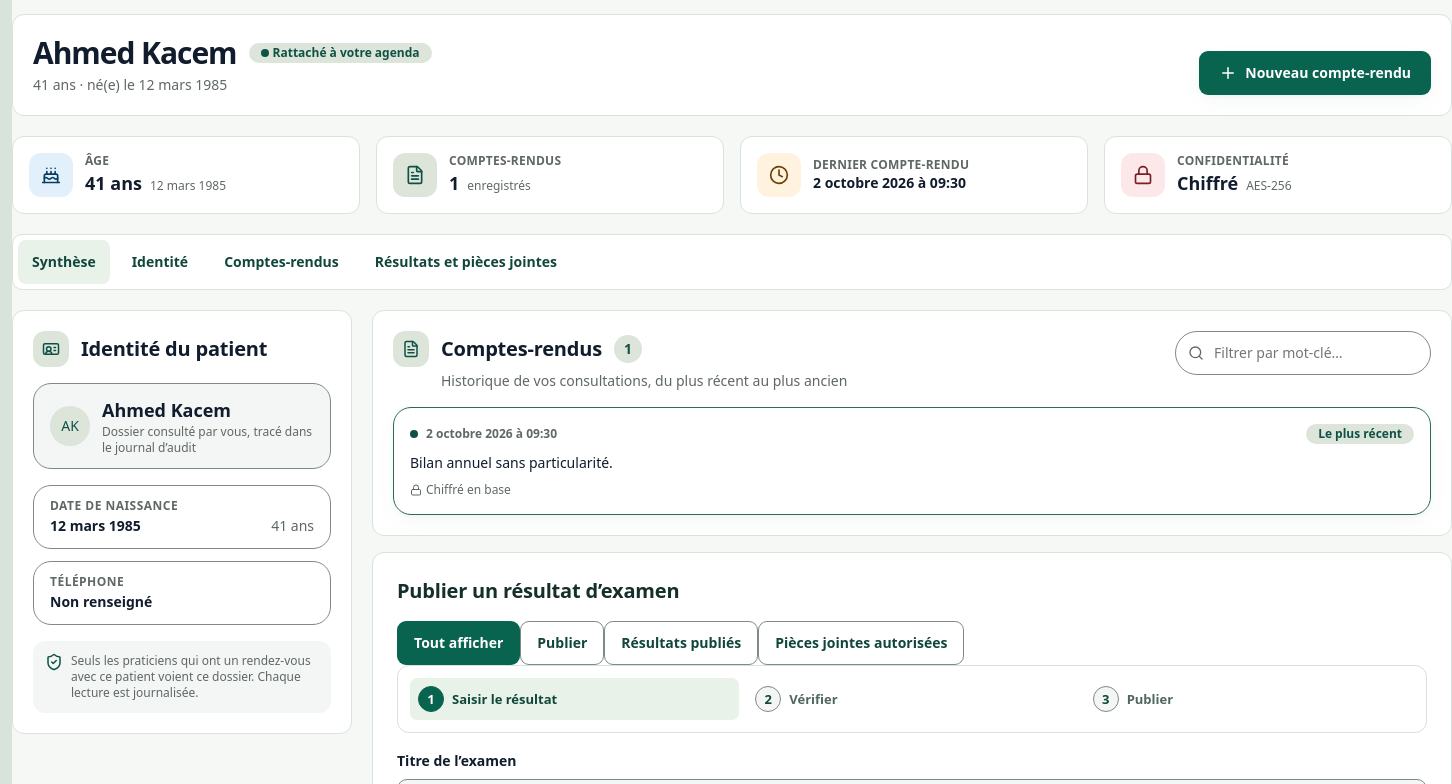
Scenario: 32.6: the draft is medical data: never written to the browser’s storage, even when the save fails
Click the button "Nouveau compte-rendu" at (1315, 73), box x1=1199 y1=51 x2=1431 y2=95
(page scrolled)
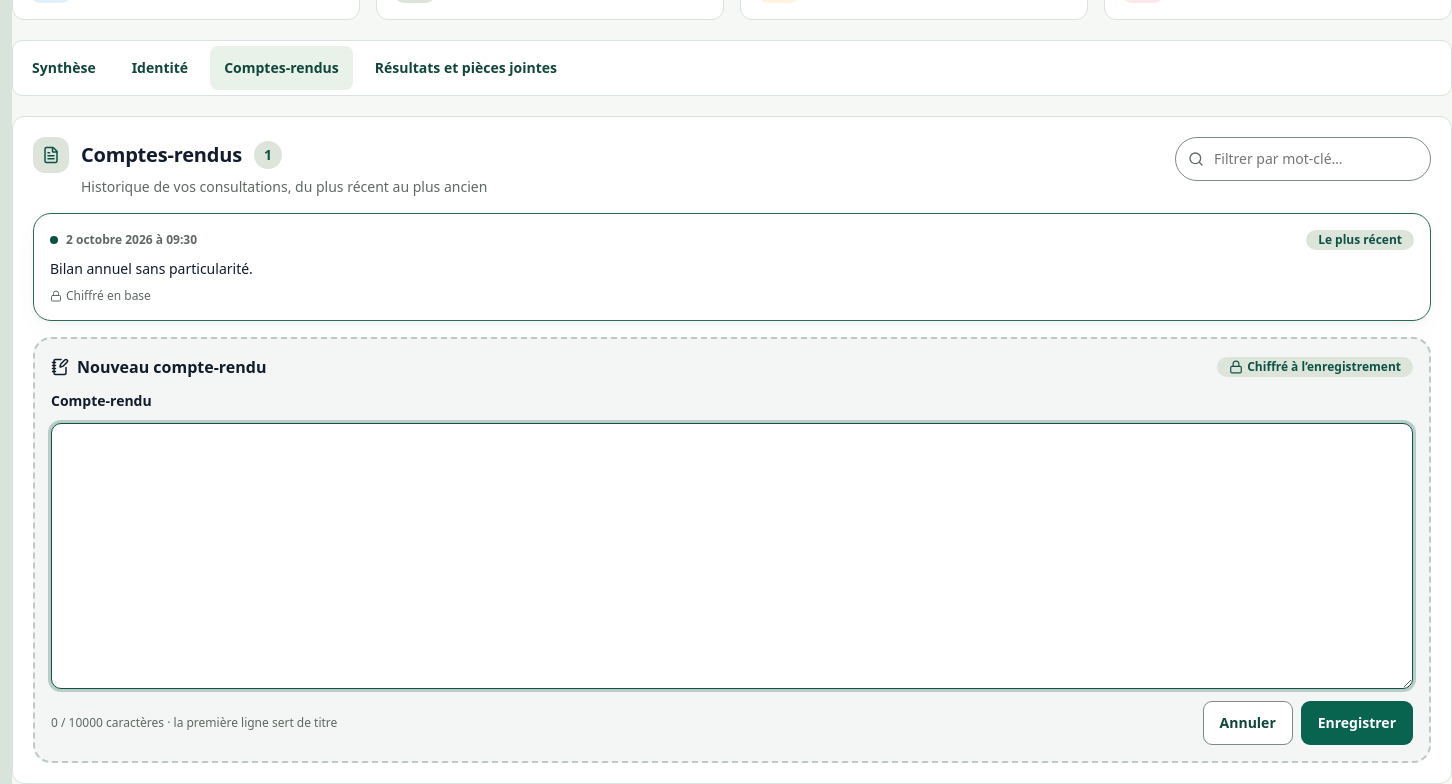
Type "Douleur thoracique atypique, ECG normal. Contrôle dans un mois." into the text box labelled "Compte-rendu" at (732, 556), box x1=51 y1=423 x2=1413 y2=689
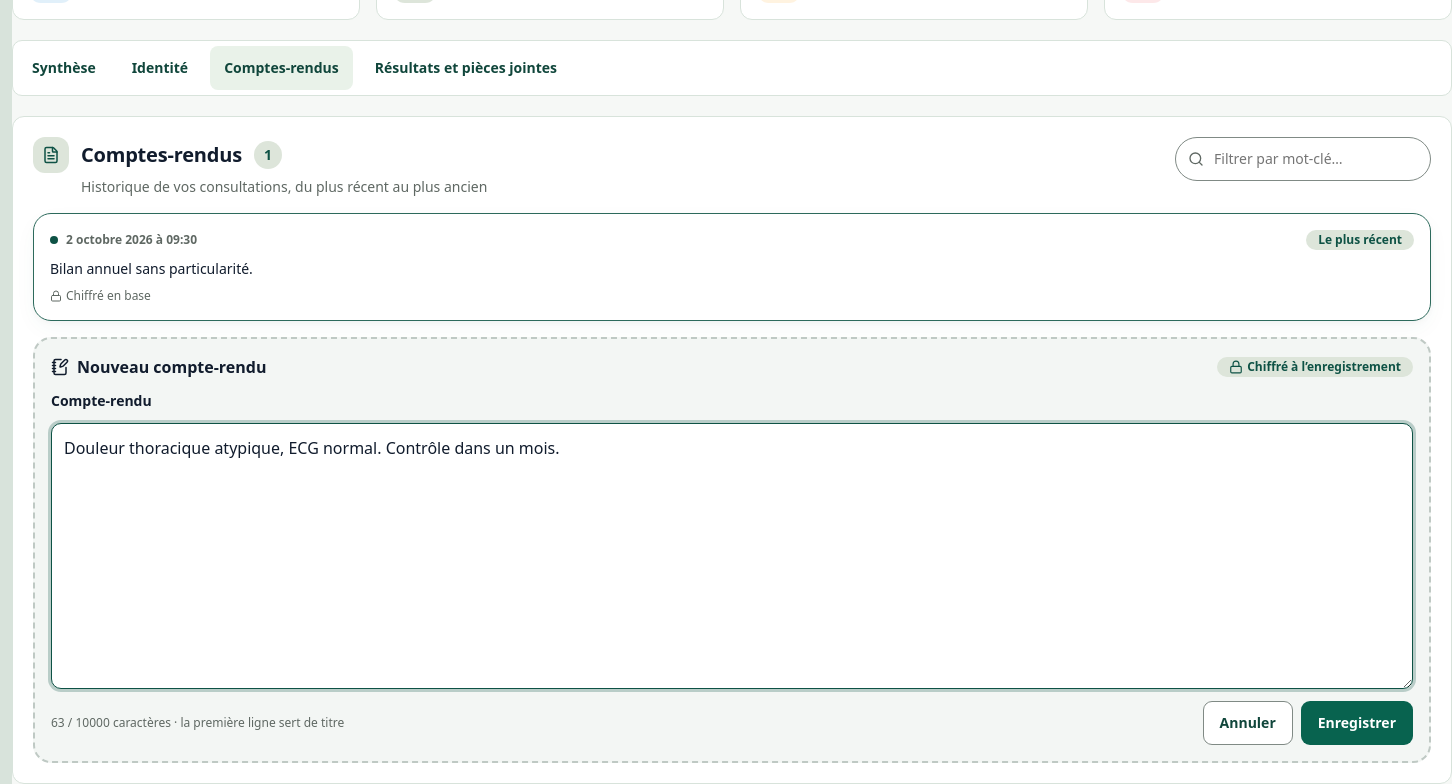
Click the button "Enregistrer" at (1357, 723), box x1=1301 y1=701 x2=1413 y2=745
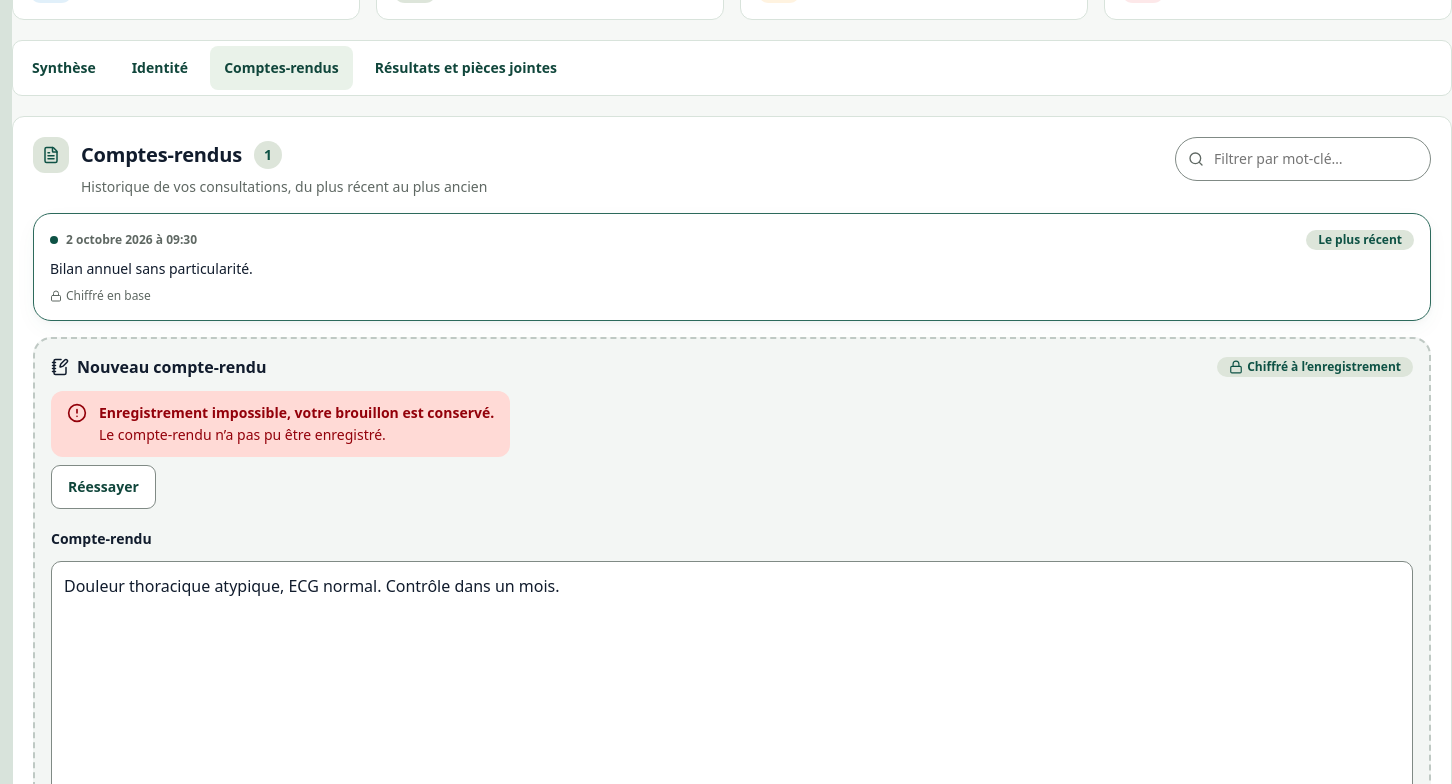
Expected: the message is shown, x1=51 y1=391 x2=510 y2=457
